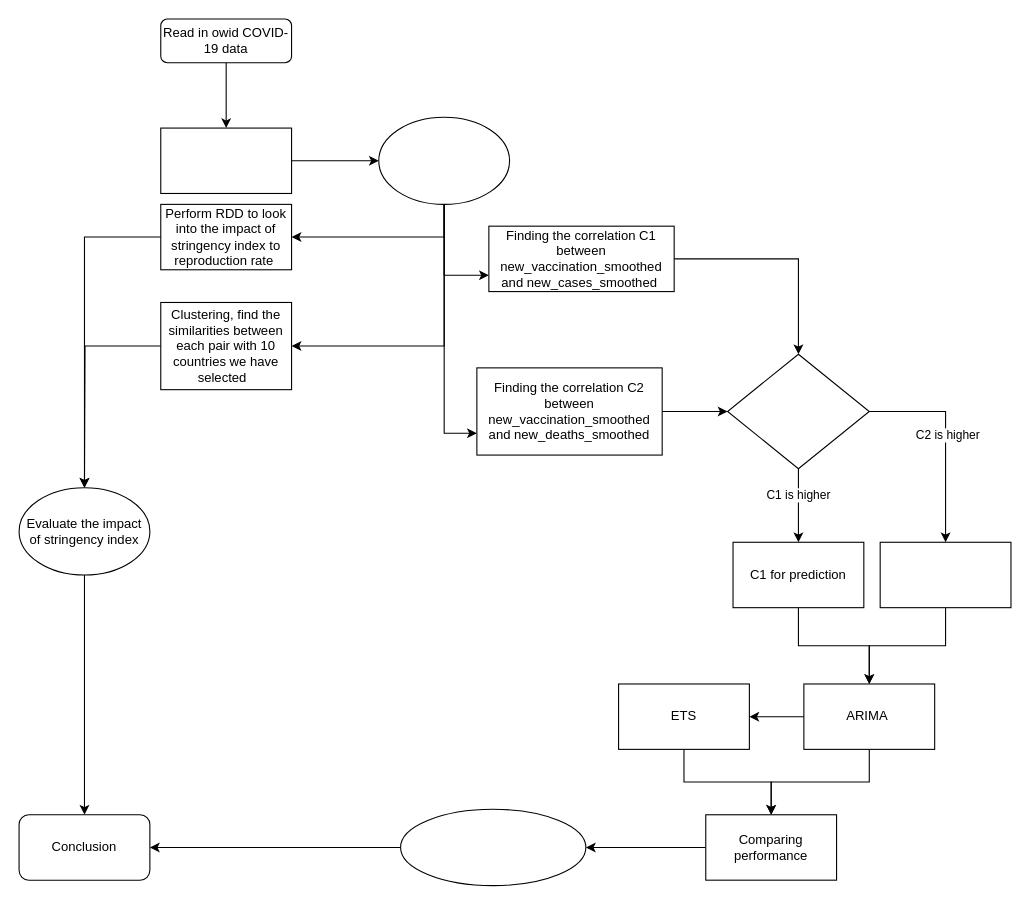
The diagram is 1030 pixels wide and 905 high, and some of its shapes have lost their labels. Each missing label, with the centre of its shape:
C2 for prediction: [945,574]
Clean the data: [226,160]
Comparing C1 and C2: [797,411]
Determining which model fits best: [492,847]
Select 10 representative countries: [444,160]
